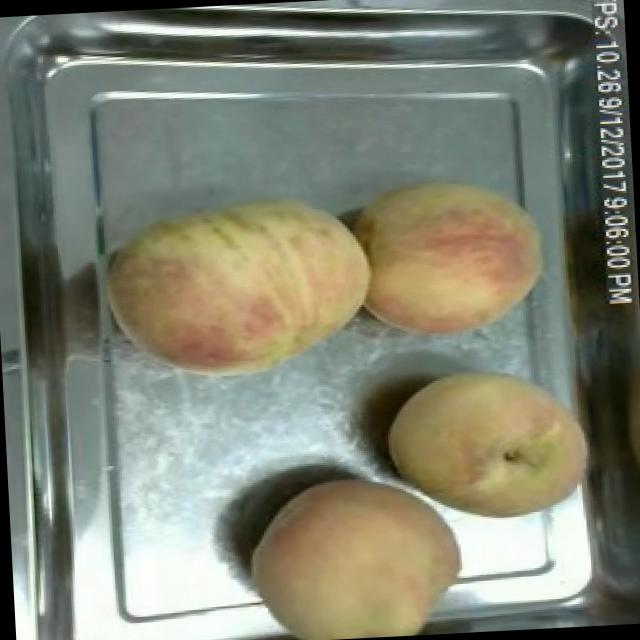Fruit: (100, 186, 370, 393), (238, 460, 477, 640), (374, 352, 601, 537), (347, 164, 560, 350)
